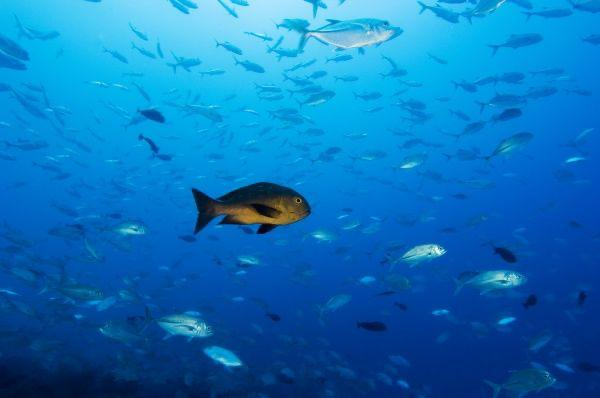Carangidae -Jacks-: (287, 13, 413, 59)
Lutjanidae -Snappers-: (185, 176, 316, 237)
